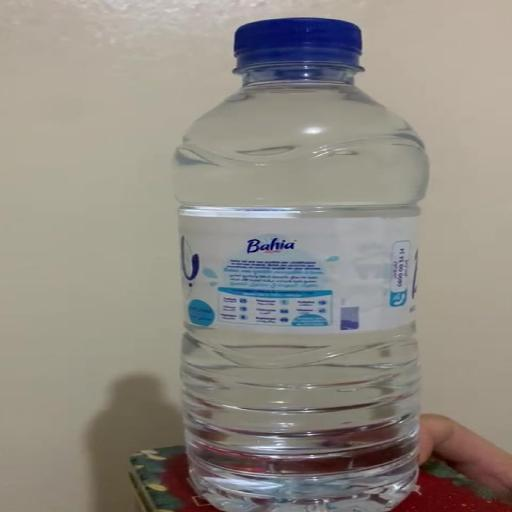bouteille conformite: (176, 11, 427, 512)
